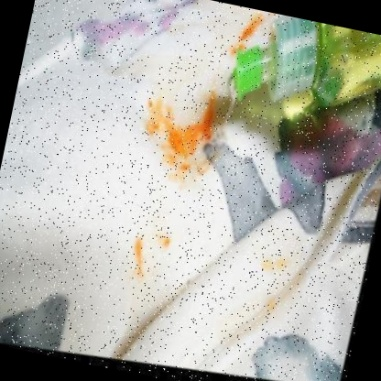kimchi: (129, 100, 222, 185), (119, 233, 157, 290), (238, 12, 265, 46), (195, 91, 221, 121), (264, 251, 291, 275), (157, 235, 175, 254), (228, 43, 239, 55), (269, 299, 278, 313)
